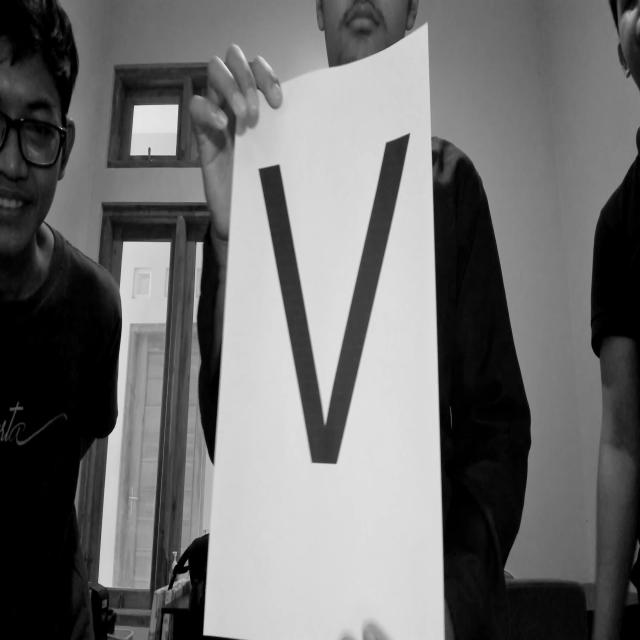v: (244, 119, 452, 512)
